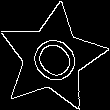O_SE: (19, 25, 86, 91)
